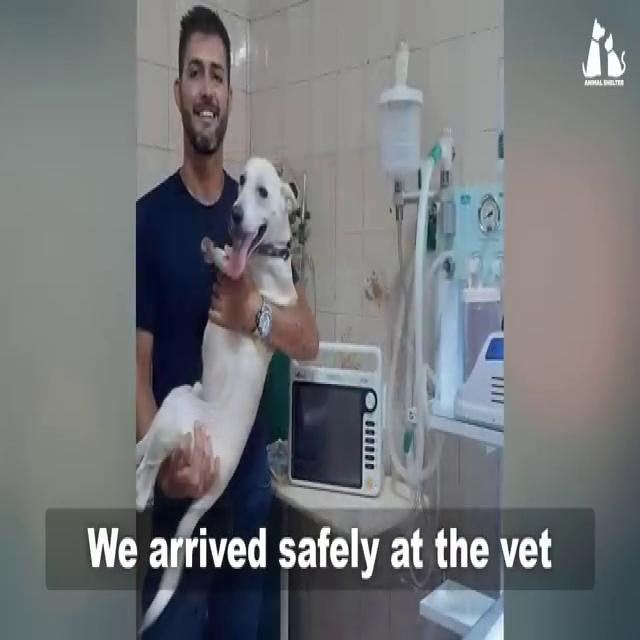normal_animals: (136, 149, 304, 631)
